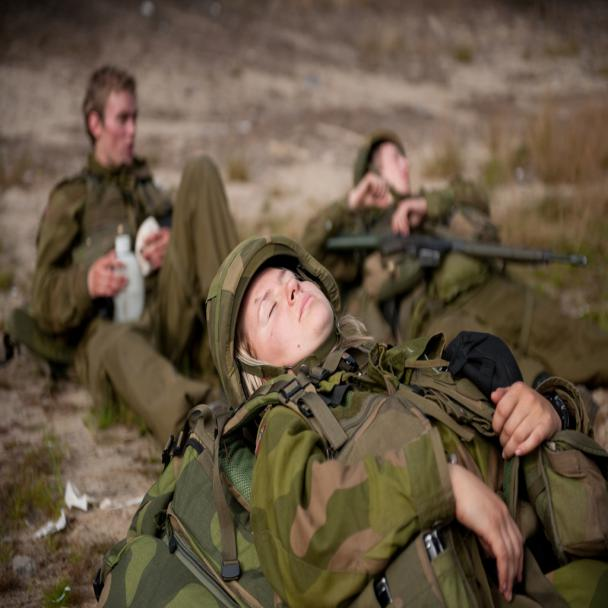Gun: (315, 192, 602, 294)
Hand: (444, 448, 532, 598), (474, 356, 574, 470), (80, 244, 133, 304), (138, 226, 176, 277)
